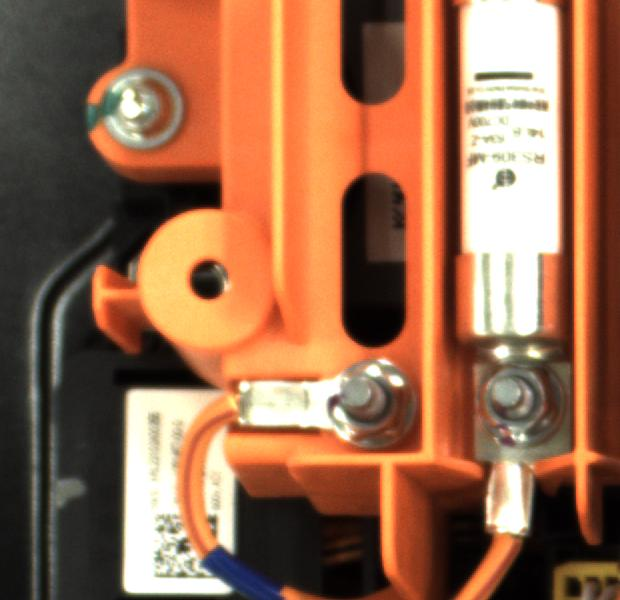screw_m: (94, 63, 197, 151)
screw_s: (319, 359, 417, 449), (476, 356, 566, 452)
